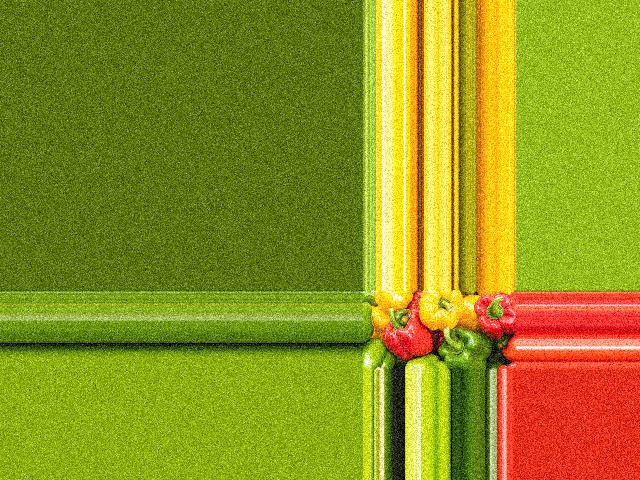bell_pepper: (468, 291, 515, 338)
